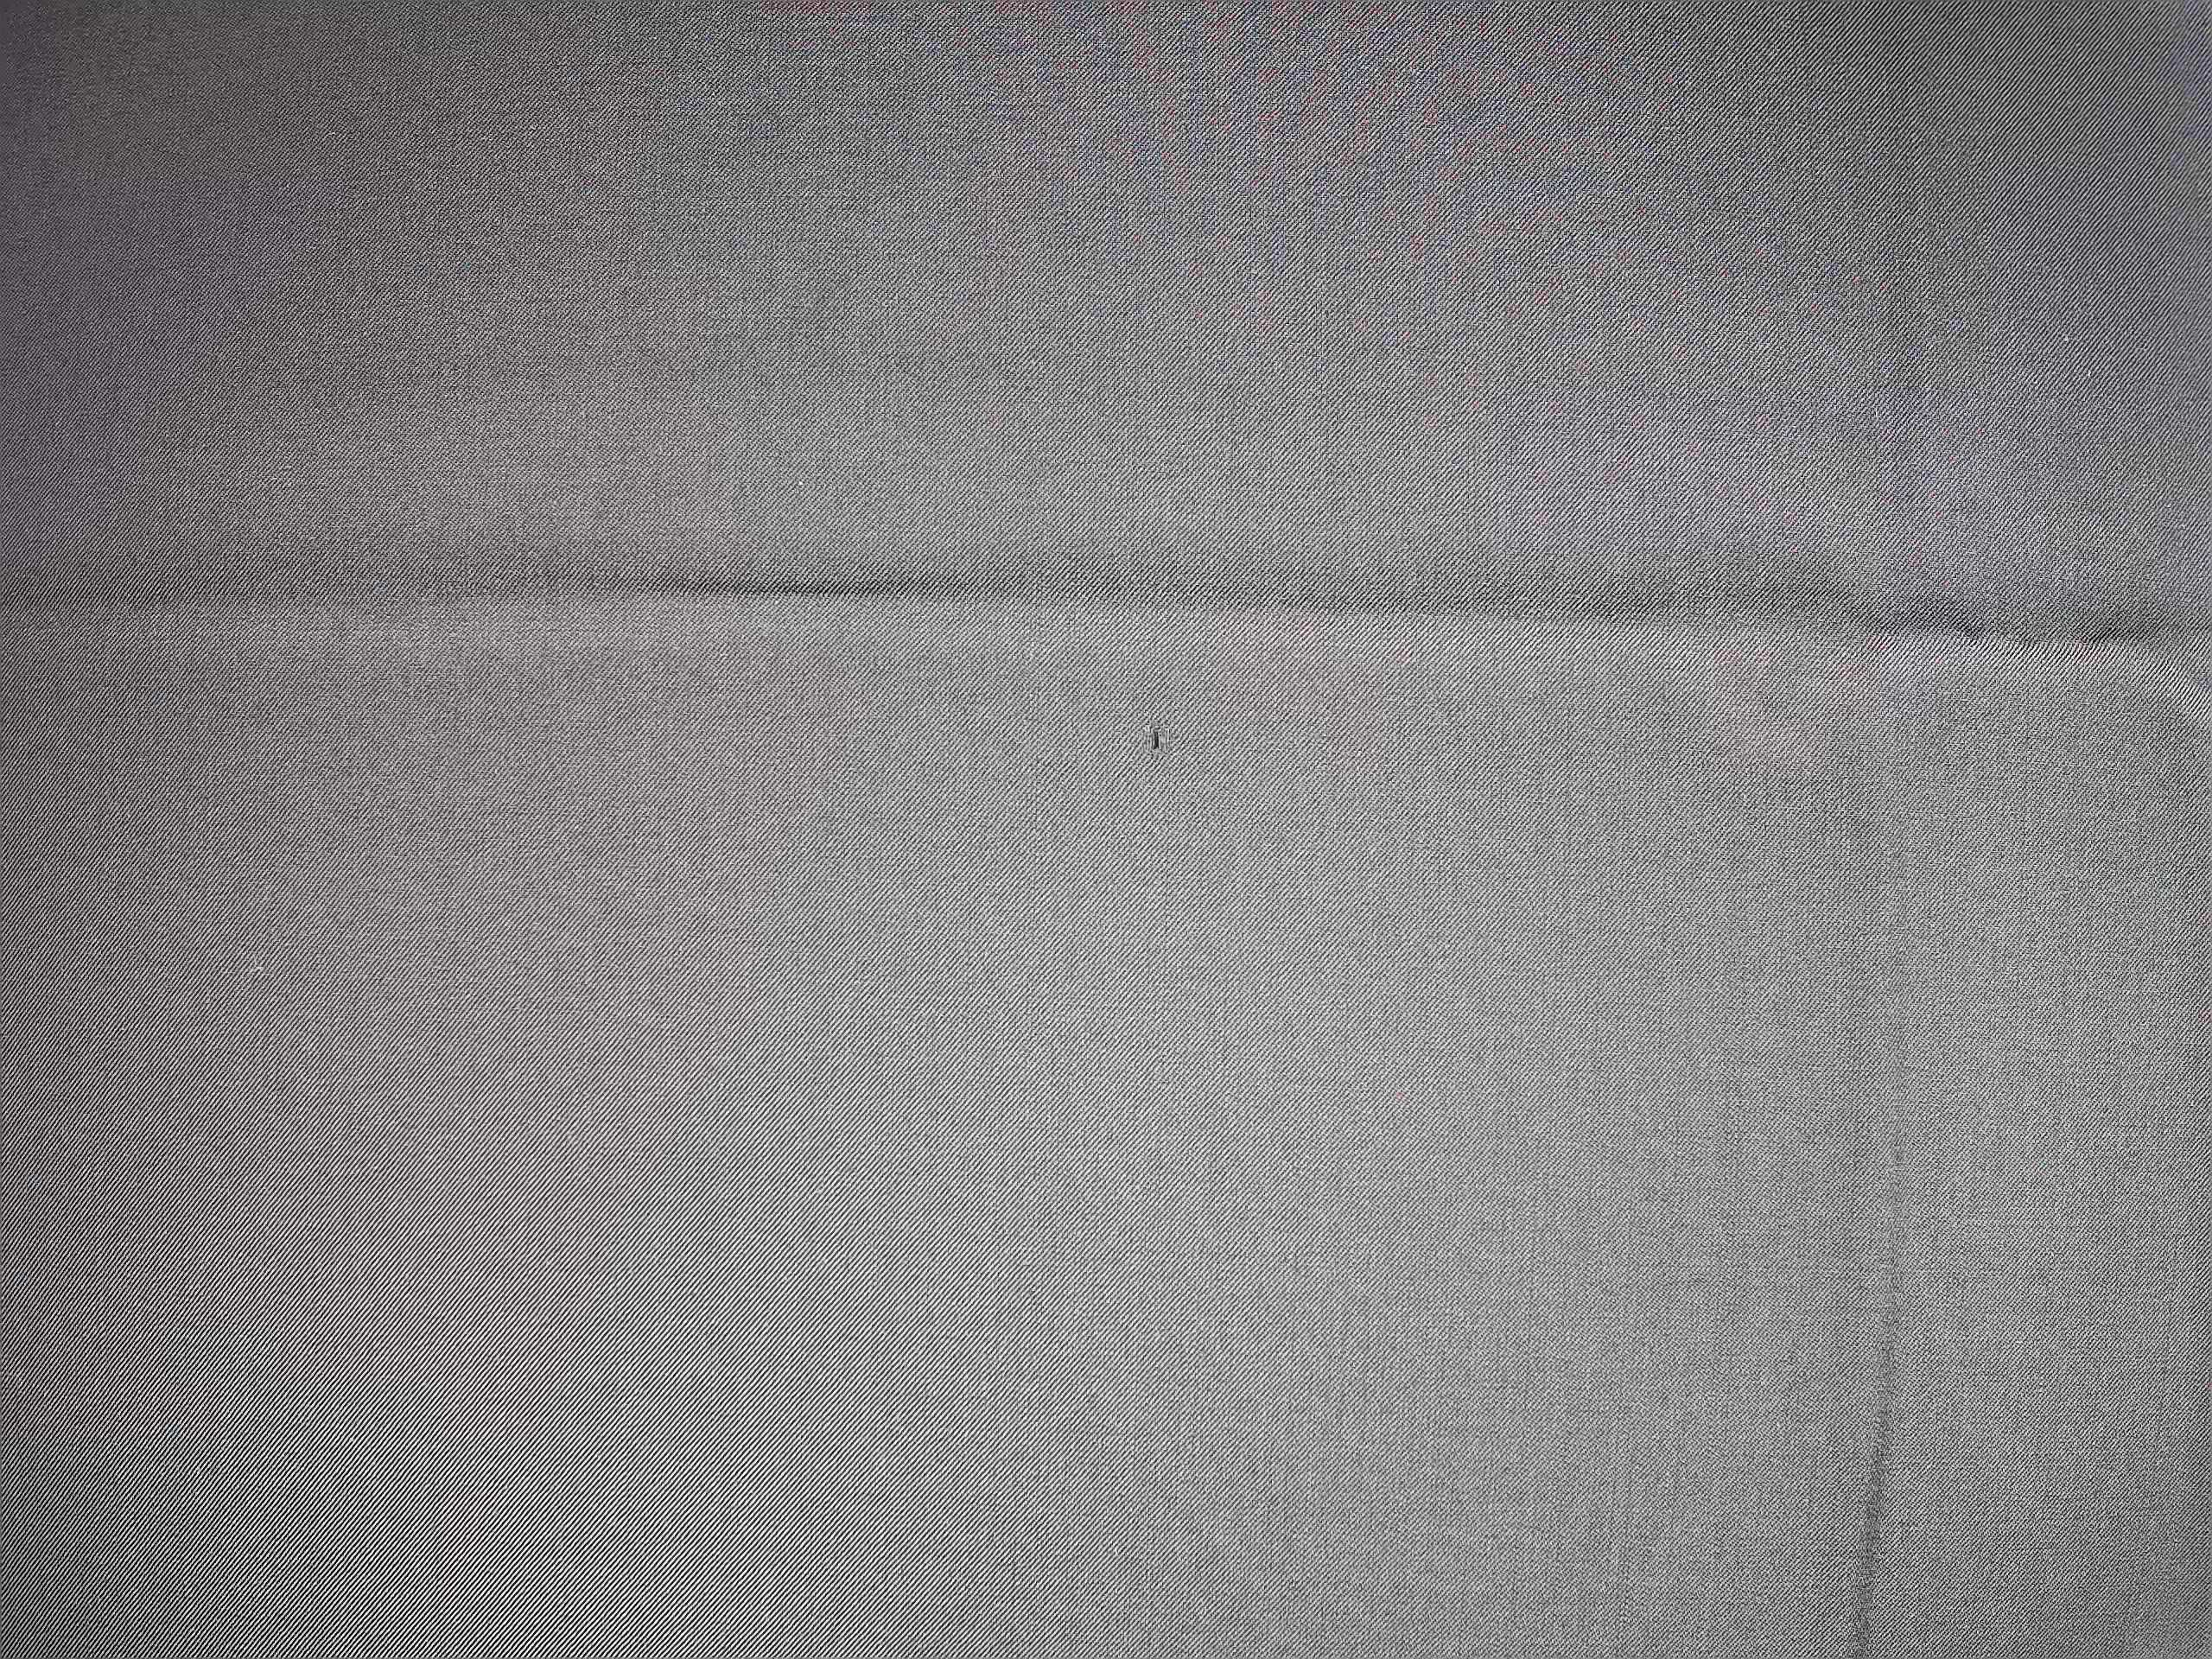brushed-hole: (1134, 713, 1183, 767)
